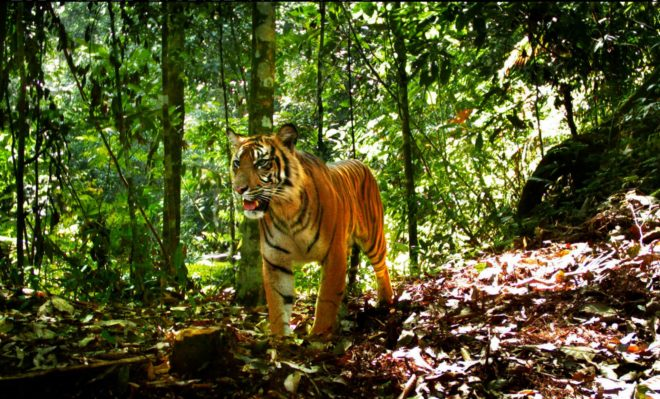Tigrew: (205, 125, 405, 335)
